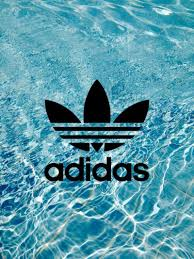adidas: (44, 79, 150, 183)
